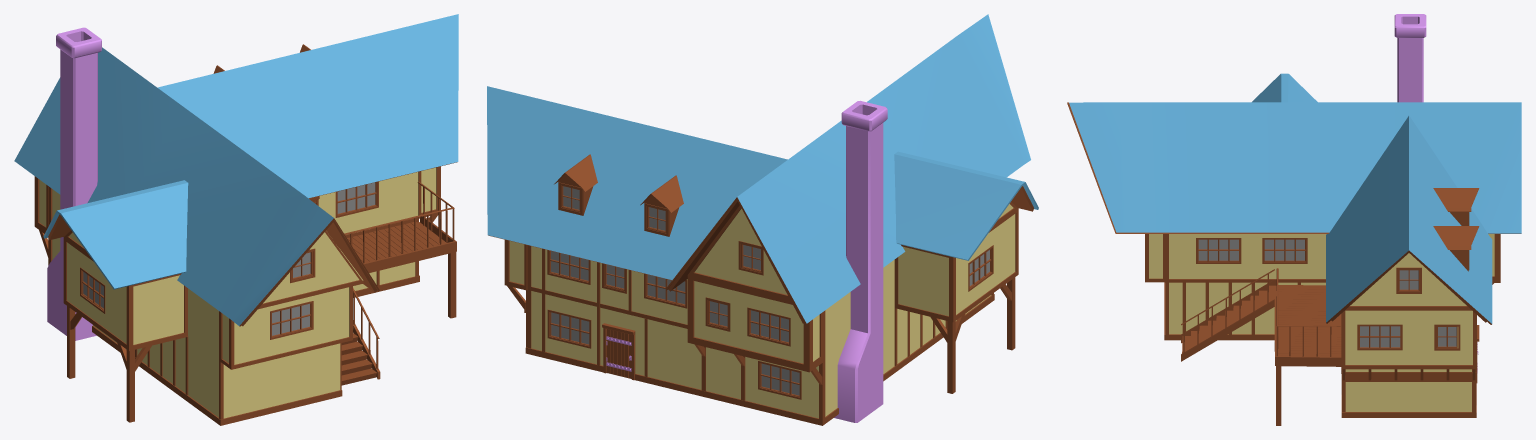
The model's file is muwu8.FBX.
3 views of the same model, side by side, from view 1: azimuth 30°, elevation 25°; view 2: azimuth 150°, elevation 25°; view 3: azimuth 270°, elevation 25° (orthographic). The views are drawn at different scales.
Visible parts, largest first — view 1: HouseLG02_RoofTiles, HouseLG02_PlasterYellow, HouseLG02_Wood_Beams, HouseLG02_Stone_Stacked, HouseLG02_WoodDark, HouseLG02_Glass, HouseLG02_Mullions_Wood; view 2: HouseLG02_RoofTiles, HouseLG02_PlasterYellow, HouseLG02_Wood_Beams, HouseLG02_Stone_Stacked, HouseLG02_Glass, HouseLG02_WoodDark (×2), HouseLG02_Mullions_Wood; view 3: HouseLG02_RoofTiles, HouseLG02_PlasterYellow, HouseLG02_Wood_Beams, HouseLG02_WoodDark, HouseLG02_Glass, HouseLG02_Stone_Stacked, HouseLG02_Mullions_Wood.
Part boxes in pixels (x1,y1,x2,y2): HouseLG02_RoofTiles: [14, 14, 458, 325]; HouseLG02_PlasterYellow: [39, 167, 436, 418]; HouseLG02_Wood_Beams: [34, 166, 456, 425]; HouseLG02_Stone_Stacked: [47, 27, 101, 340]; HouseLG02_WoodDark: [48, 44, 457, 385]; HouseLG02_Glass: [83, 182, 375, 335]; HouseLG02_Mullions_Wood: [81, 182, 376, 337]; HouseLG02_RoofTiles: [487, 14, 1038, 323]; HouseLG02_PlasterYellow: [509, 204, 1015, 418]; HouseLG02_Wood_Beams: [504, 173, 1018, 425]; HouseLG02_Stone_Stacked: [834, 100, 887, 422]; HouseLG02_Glass: [551, 186, 989, 395]; HouseLG02_WoodDark (×2): [488, 154, 1033, 380]; HouseLG02_Mullions_Wood: [549, 185, 991, 396]; HouseLG02_RoofTiles: [1069, 73, 1521, 323]; HouseLG02_PlasterYellow: [1149, 234, 1494, 411]; HouseLG02_Wood_Beams: [1145, 211, 1500, 425]; HouseLG02_WoodDark: [1067, 102, 1521, 356]; HouseLG02_Glass: [1198, 239, 1456, 347]; HouseLG02_Stone_Stacked: [1394, 14, 1426, 102]; HouseLG02_Mullions_Wood: [1198, 239, 1457, 348].
Bounding box in the file's own units: 25.78 × 15.78 × 23.92.
